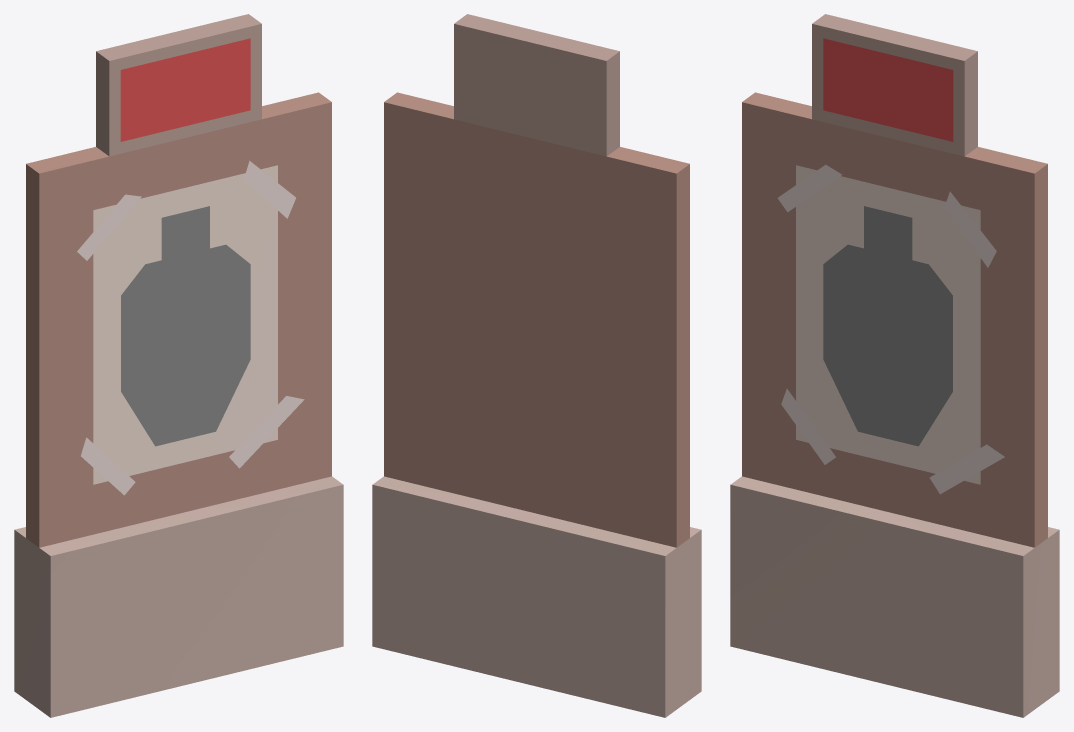
Rendered from target_002.glb.
3 renders of one model, left to right at view 1: azimuth 30°, elevation 25°; view 2: azimuth 150°, elevation 25°; view 3: azimuth 330°, elevation 25°, orthographic.
Visible parts, largest first — view 1: target_002; view 2: target_002; view 3: target_002.
Boxes of the visible parts, x1,y1,x2,y2 form: target_002: [14, 14, 343, 717]; target_002: [372, 14, 701, 717]; target_002: [730, 14, 1059, 717].
Size of the model in its own units: 1.35 by 2.77 by 0.2876.
Materials: 1 (1 with a texture image).
